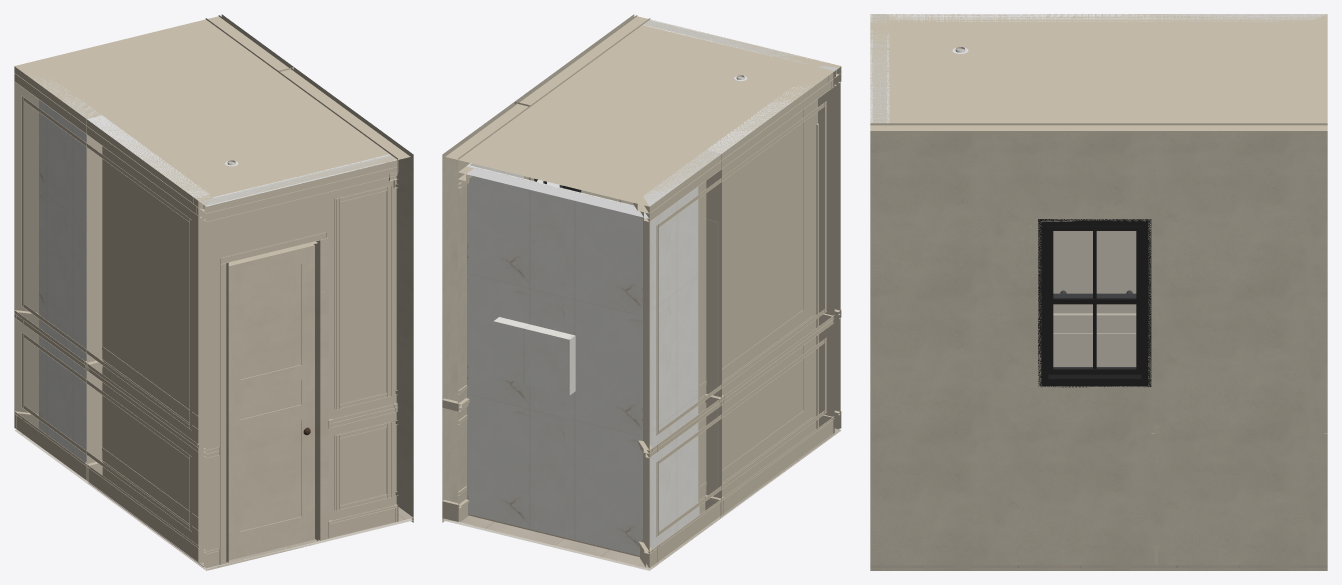
File: loli-bathroom-7149993c08f7.glb
The picture shows the model from 3 angles, left to right: view 1: azimuth 30°, elevation 25°; view 2: azimuth 150°, elevation 25°; view 3: azimuth 270°, elevation 25°; orthographic projection. The views are drawn at different scales.
Parts seen in each view (by area): view 1: loli-bathroom-2575515a05775d9e, loli-bathroom-03bdd0165789d12b, loli-bathroom-0e637d2be41161fb, loli-bathroom-eceff908bd344cec, loli-bathroom-5795d1714989146e, loli-bathroom-e64cabe238f3e83a, loli-bathroom-319244b3406409d9, loli-bathroom-4a0606b58a607568, loli-bathroom-a8b6749dbb482e83, loli-bathroom-609bc1027670cc96, loli-bathroom-cc15fd6f291c811e, loli-bathroom-e2dd6cf138a61c96 (+19 smaller); view 2: loli-bathroom-51561c1911f47dcb, loli-bathroom-2575515a05775d9e, loli-bathroom-03bdd0165789d12b, loli-bathroom-5795d1714989146e, loli-bathroom-1c7325212038a6e7, loli-bathroom-e462de76b61e99cf, loli-bathroom-a90dd75c175210c7, loli-bathroom-0e637d2be41161fb, loli-bathroom-e64cabe238f3e83a, loli-bathroom-a8b6749dbb482e83, loli-bathroom-cc15fd6f291c811e, loli-bathroom-92c333610bf7beb4 (+13 smaller); view 3: loli-bathroom-319244b3406409d9, loli-bathroom-e462de76b61e99cf, loli-bathroom-2575515a05775d9e, loli-bathroom-15d1eb52c435a27e, loli-bathroom-03bdd0165789d12b, loli-bathroom-0e637d2be41161fb, loli-bathroom-3b0077416469e01b, loli-bathroom-76fec1e12e3db62a, loli-bathroom-1c7325212038a6e7, loli-bathroom-3b79cb6a0eb20f8c, loli-bathroom-687fd4d2e321b111.
Part boxes in pixels (x1=…): loli-bathroom-2575515a05775d9e: x1=14, y1=15, x2=410, y2=201; loli-bathroom-03bdd0165789d12b: x1=86, y1=115, x2=209, y2=560; loli-bathroom-0e637d2be41161fb: x1=198, y1=154, x2=397, y2=568; loli-bathroom-eceff908bd344cec: x1=228, y1=244, x2=314, y2=560; loli-bathroom-5795d1714989146e: x1=39, y1=100, x2=86, y2=462; loli-bathroom-e64cabe238f3e83a: x1=14, y1=78, x2=38, y2=428; loli-bathroom-319244b3406409d9: x1=278, y1=67, x2=413, y2=521; loli-bathroom-4a0606b58a607568: x1=318, y1=237, x2=328, y2=540; loli-bathroom-a8b6749dbb482e83: x1=14, y1=412, x2=199, y2=562; loli-bathroom-609bc1027670cc96: x1=206, y1=160, x2=398, y2=221; loli-bathroom-cc15fd6f291c811e: x1=14, y1=67, x2=199, y2=216; loli-bathroom-e2dd6cf138a61c96: x1=220, y1=232, x2=326, y2=564; loli-bathroom-51561c1911f47dcb: x1=467, y1=165, x2=642, y2=556; loli-bathroom-2575515a05775d9e: x1=445, y1=15, x2=840, y2=206; loli-bathroom-03bdd0165789d12b: x1=707, y1=86, x2=833, y2=482; loli-bathroom-5795d1714989146e: x1=641, y1=187, x2=698, y2=549; loli-bathroom-1c7325212038a6e7: x1=643, y1=150, x2=721, y2=567; loli-bathroom-e462de76b61e99cf: x1=442, y1=102, x2=530, y2=502; loli-bathroom-a90dd75c175210c7: x1=493, y1=317, x2=575, y2=395; loli-bathroom-0e637d2be41161fb: x1=643, y1=19, x2=840, y2=433; loli-bathroom-e64cabe238f3e83a: x1=458, y1=165, x2=649, y2=548; loli-bathroom-a8b6749dbb482e83: x1=649, y1=417, x2=834, y2=567; loli-bathroom-cc15fd6f291c811e: x1=649, y1=72, x2=834, y2=221; loli-bathroom-92c333610bf7beb4: x1=656, y1=101, x2=826, y2=435; loli-bathroom-319244b3406409d9: x1=870, y1=123, x2=1155, y2=565; loli-bathroom-e462de76b61e99cf: x1=1155, y1=123, x2=1327, y2=565; loli-bathroom-2575515a05775d9e: x1=870, y1=14, x2=1327, y2=132; loli-bathroom-15d1eb52c435a27e: x1=1038, y1=219, x2=1151, y2=387; loli-bathroom-03bdd0165789d12b: x1=889, y1=14, x2=1155, y2=366; loli-bathroom-0e637d2be41161fb: x1=870, y1=14, x2=889, y2=123; loli-bathroom-3b0077416469e01b: x1=870, y1=565, x2=1327, y2=567; loli-bathroom-76fec1e12e3db62a: x1=870, y1=568, x2=1327, y2=570; loli-bathroom-1c7325212038a6e7: x1=1155, y1=14, x2=1326, y2=21; loli-bathroom-3b79cb6a0eb20f8c: x1=1053, y1=313, x2=1136, y2=323; loli-bathroom-687fd4d2e321b111: x1=872, y1=14, x2=883, y2=123.
Size of the model in its own units: 1.8 by 3.05 by 2.88.
Materials: 36 (7 with a texture image).
